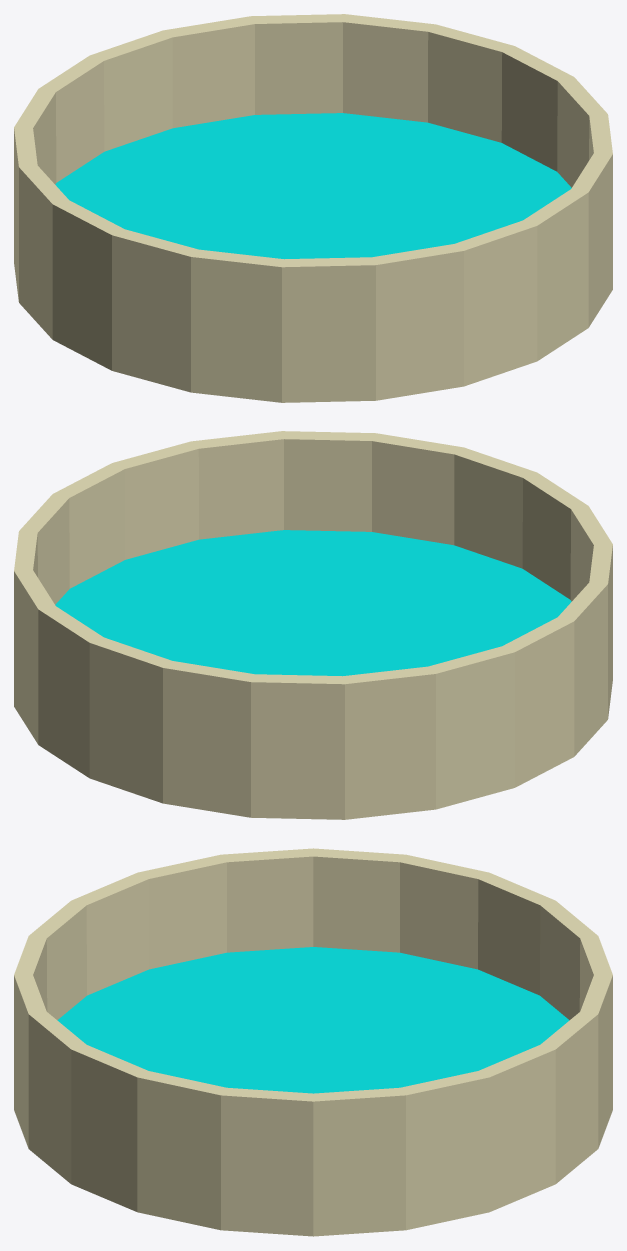
Rendered from SM_KiddyPool_01_collisionmesh.fbx.
3 views of the same model, one above another, from view 1: azimuth 30°, elevation 25°; view 2: azimuth 150°, elevation 25°; view 3: azimuth 270°, elevation 25° (orthographic).
Parts seen in each view (by area): view 1: SM_KiddyPool_01; view 2: SM_KiddyPool_01; view 3: SM_KiddyPool_01.
Part boxes in pixels (box(x1,y1,x2,y2)): SM_KiddyPool_01: box(14, 14, 612, 402); SM_KiddyPool_01: box(14, 431, 612, 819); SM_KiddyPool_01: box(14, 848, 612, 1236).
Bounding box in the file's own units: 599 × 149 × 599.
